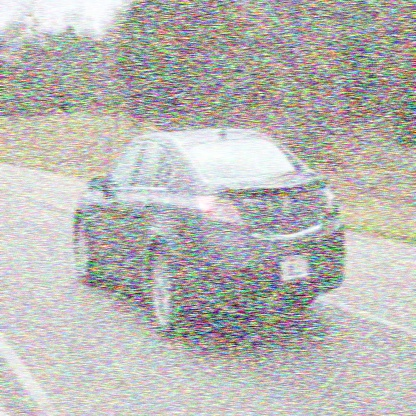Vehicle: (69, 104, 356, 360)
